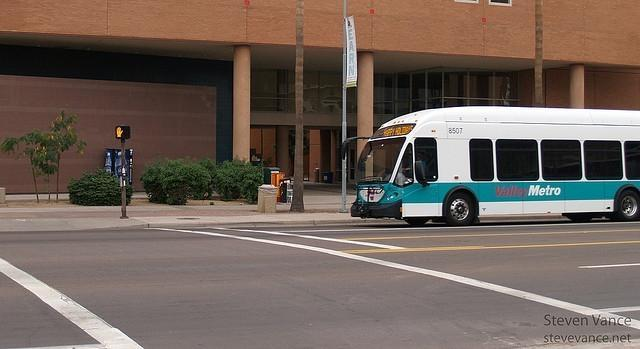bus: (351, 108, 640, 221)
